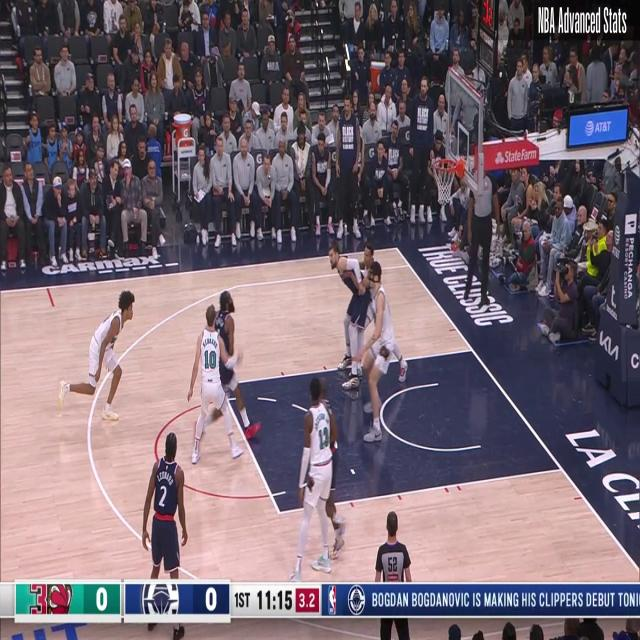judge: (374, 508, 412, 639), (462, 162, 494, 310)
player: (58, 289, 134, 422), (290, 380, 338, 582), (188, 303, 247, 466), (207, 286, 266, 446), (356, 256, 406, 443), (142, 431, 187, 630), (357, 238, 414, 392), (328, 246, 373, 388)
